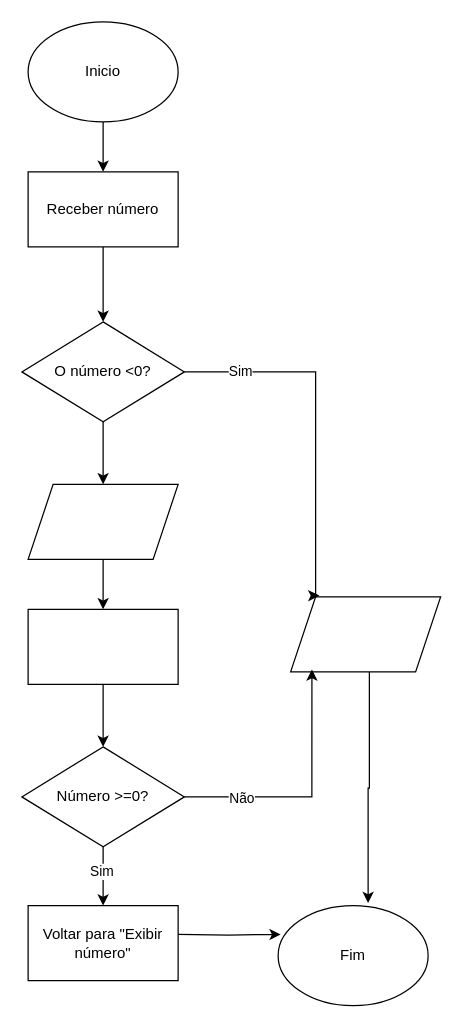
The diagram is 463 pixels wide and 1028 high, and some of its shapes have lost their labels. Each missing label, with the centre of its shape:
Exibir "Número inválido": pixel 365 634
Exibir número: pixel 102 521
Número = número -1: pixel 102 646
